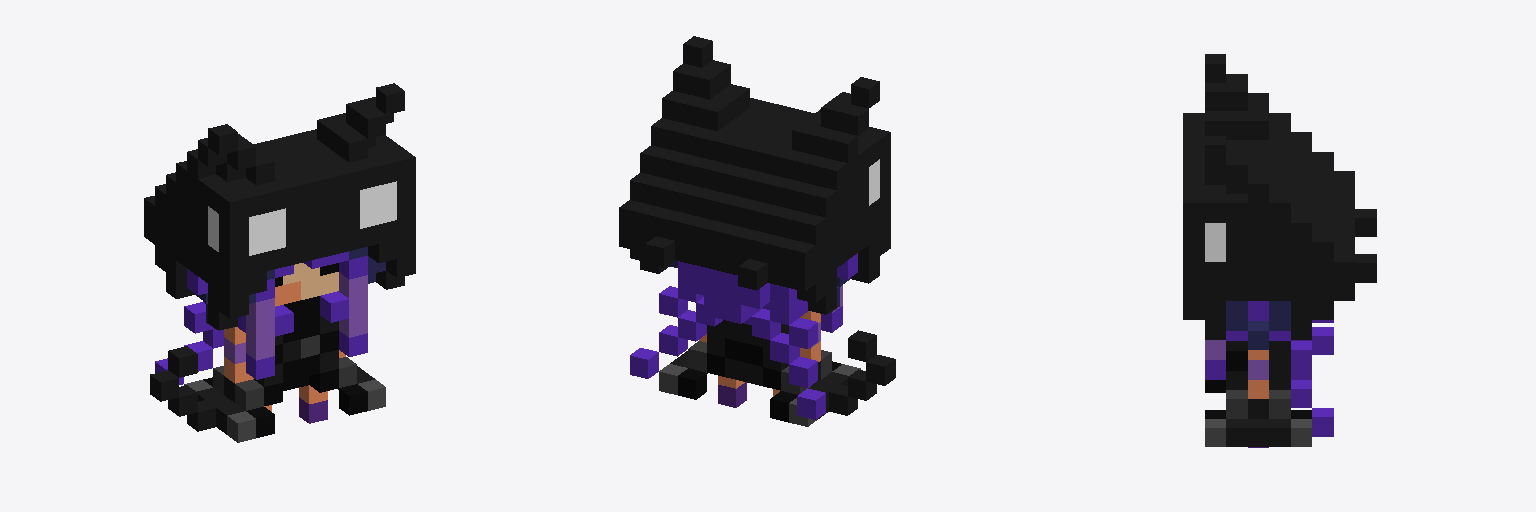
3 renders of one model, left to right at view 1: azimuth 30°, elevation 25°; view 2: azimuth 150°, elevation 25°; view 3: azimuth 270°, elevation 25°, orthographic.
Parts seen in each view (by area): view 1: Model; view 2: Model; view 3: Model.
Part boxes in pixels (x1,y1,x2,y2): Model: (144, 83, 415, 442); Model: (619, 36, 895, 426); Model: (1183, 54, 1376, 447).
Bounding box in the file's own units: 1.2 × 1.7 × 0.9.
Materials: 1 (1 with a texture image).